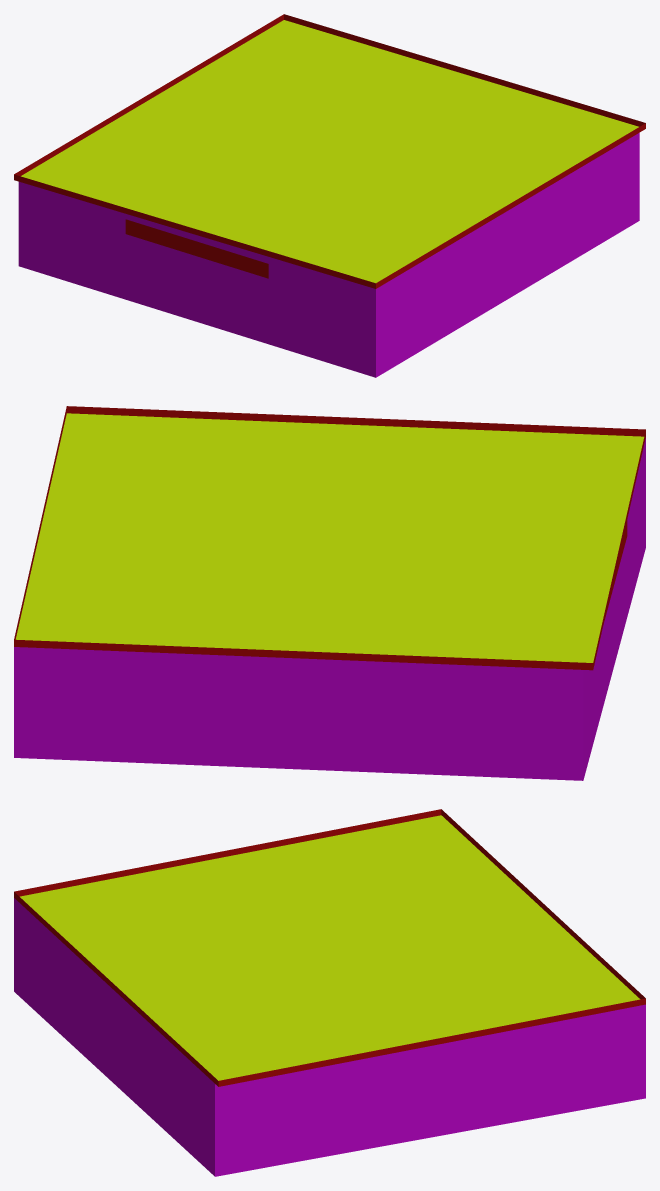
Rendered from bgj_156.glb.
The picture shows the model from 3 angles, top to bottom: view 1: azimuth 30°, elevation 25°; view 2: azimuth 150°, elevation 25°; view 3: azimuth 270°, elevation 25°; orthographic projection. The views are drawn at different scales.
Parts seen in each view (by area): view 1: bgj_156; view 2: bgj_156; view 3: bgj_156.
Part boxes in pixels (<box>): bgj_156: <box>14,14,645,377</box>; bgj_156: <box>14,406,645,780</box>; bgj_156: <box>14,809,645,1176</box>.
Bounding box in the file's own units: 33.44 × 5.74 × 32.86.
